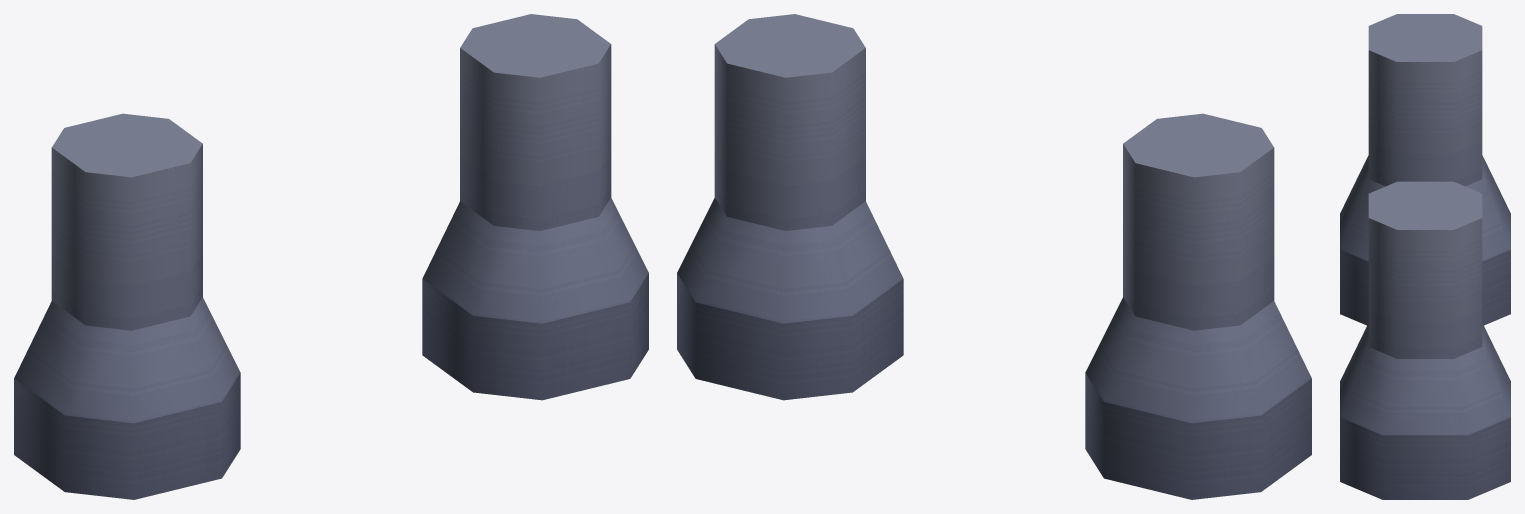
File: support-two-bottom.glb
The picture shows the model from 3 angles, left to right: view 1: azimuth 30°, elevation 25°; view 2: azimuth 150°, elevation 25°; view 3: azimuth 270°, elevation 25°; orthographic projection. The views are drawn at different scales.
Parts seen in each view (by area): view 1: support-two-bottom; view 2: support-two-bottom; view 3: support-two-bottom.
Boxes of the visible parts, left/top/right/bottom form: support-two-bottom: left=14, top=14, right=648, bottom=499; support-two-bottom: left=677, top=14, right=1311, bottom=499; support-two-bottom: left=1340, top=14, right=1510, bottom=499.
Size of the model in its own units: 0.9969 by 0.5 by 0.3.
1 material, 1 textured.
